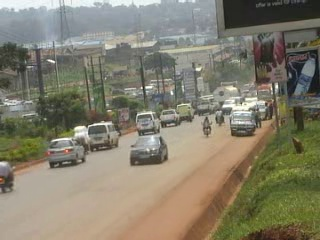Car: (45, 134, 87, 170), (127, 132, 170, 166)
Motorcycle: (0, 155, 17, 195), (71, 123, 92, 155), (200, 113, 213, 137), (214, 105, 226, 127)
